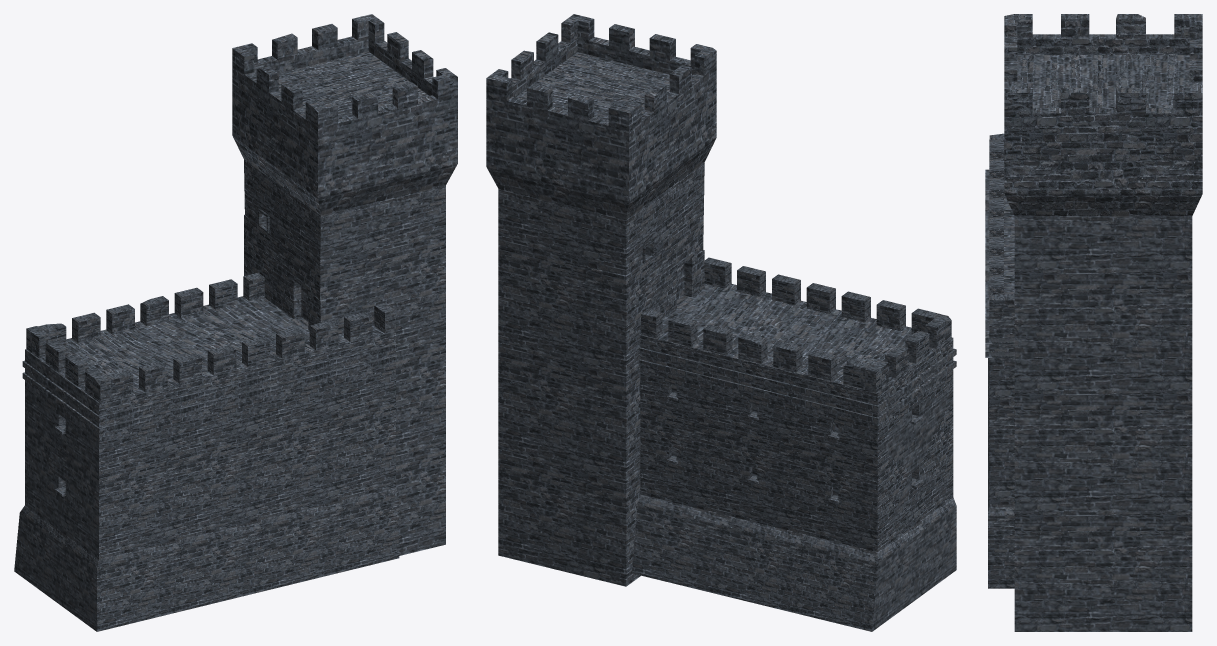
File: CastleWall.fbx
3 views of the same model, side by side, from view 1: azimuth 30°, elevation 25°; view 2: azimuth 150°, elevation 25°; view 3: azimuth 270°, elevation 25° (orthographic). The views are drawn at different scales.
Parts seen in each view (by area): view 1: SMO_BG50_ground_LD16_028_ILCA; view 2: SMO_BG50_ground_LD16_028_ILCA; view 3: SMO_BG50_ground_LD16_028_ILCA.
Boxes of the visible parts, x1,y1,x2,y2 form: SMO_BG50_ground_LD16_028_ILCA: (14, 14, 457, 631); SMO_BG50_ground_LD16_028_ILCA: (486, 14, 956, 631); SMO_BG50_ground_LD16_028_ILCA: (985, 14, 1202, 631).
Size of the model in its own units: 2607 by 3170 by 1151.
